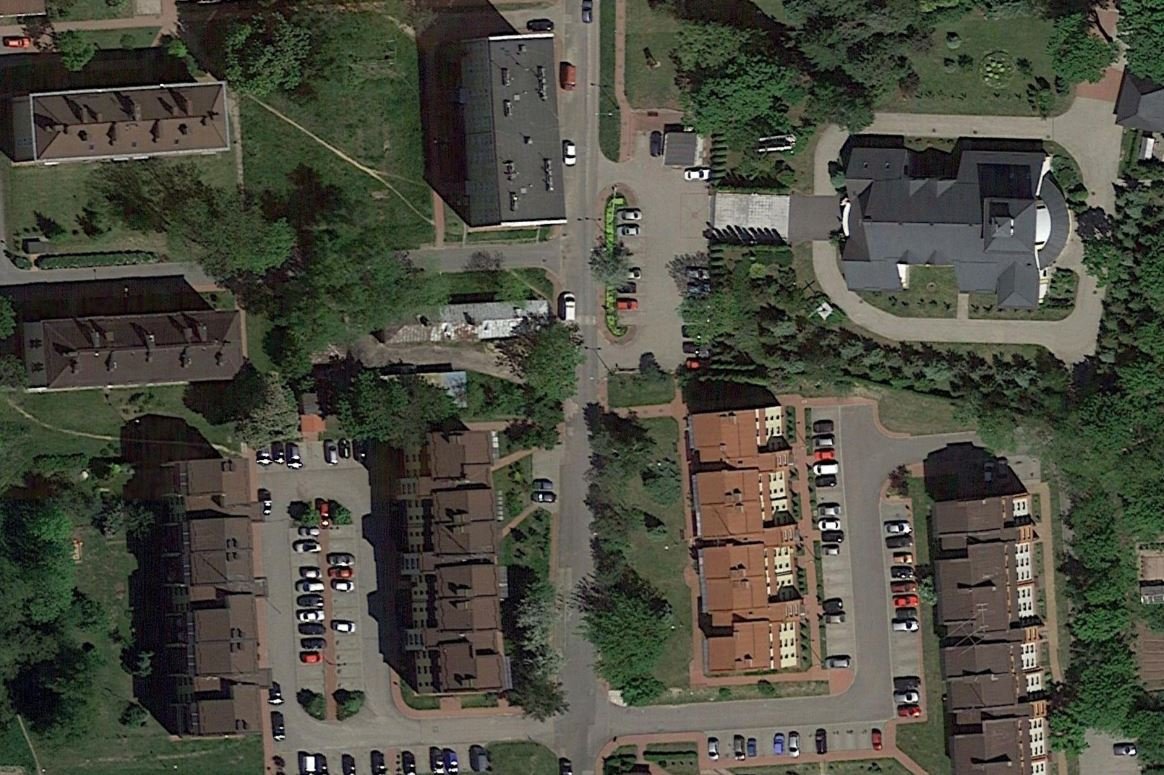block of flats: (923, 483, 1056, 775), (682, 397, 812, 686), (391, 412, 518, 703), (146, 453, 271, 745), (451, 26, 572, 236), (17, 301, 257, 403), (3, 71, 233, 176)
church: (830, 116, 1087, 321)
